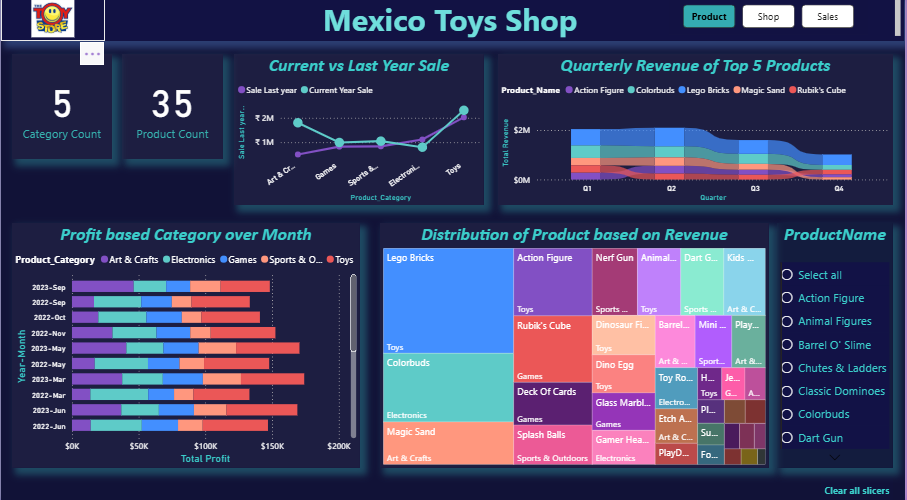

Layout of this report page (visuals, bound fields, positions):
{"tool":"powerbi","page":{"name":"Product","canvas":[1280,720],"ordinal":7},"visuals":[{"type":"textbox","box":[0,0,1279.8,65.2],"z":0},{"type":"actionButton","box":[1162.2,683.1,102,36.9],"z":1000},{"type":"pageNavigator","box":[684.6,2.8,399.7,59.5],"z":2000},{"type":"card","fields":{"Values":["Measure Table.Product Name Count"]},"box":[15.8,190.1,142.6,108],"z":3000},{"type":"card","fields":{"Values":["Measure Table.Total Transactions"]},"box":[15.6,83.6,141.7,97.8],"z":4000},{"type":"barChart","title":"Profit based Category over Month","fields":{"Category":["Calendar.Year-Month"],"Series":["products.Product_Category"],"Y":["Measure Table.Total Profit"]},"box":[18.7,308.2,504,361.4],"z":5000},{"type":"treemap","title":"Distribution of Product based on Revenue","fields":{"Group":["products.Product_Name"],"Values":["Measure Table.Total Revenue"],"Details":["products.Product_Category"]},"box":[532.8,308.2,731.5,362.9],"z":6000},{"type":"ribbonChart","title":"Quarterly Revenue of Top 5 Products","fields":{"Category":["Calendar.Quarter"],"Y":["Measure Table.Total Revenue"],"Series":["products.Product_Name"]},"box":[865.4,85,398.9,211.7],"z":7000},{"type":"lineChart","title":"Current vs Last Year Sale","fields":{"Category":["products.Product_Category"],"Y":["Measure Table.Sale Last year","Measure Table.Current Year Sale"]},"box":[168.5,82.1,331.2,214.6],"z":8000},{"type":"slicer","title":"Product Name","fields":{"Values":["products.Product_Name"]},"box":[1084.3,0,180,62.4],"z":9000},{"type":"image","box":[0,0,147.4,65.2],"z":10000},{"type":"areaChart","title":"Category wise Profit Margin","fields":{"Category":["products.Product_Category","Calendar.Year"],"Y":["Measure Table.Profit Margin %"]},"box":[514.1,82.1,338.4,214.6],"z":11000}]}

Visuals, with their boxes in screenshot pixels (x1, y1, x2, y2), scaled from the page's 1280x720 canvas onto the 907x500 screenshot:
textbox: {"x1": 0, "y1": 0, "x2": 906, "y2": 45}
actionButton: {"x1": 824, "y1": 474, "x2": 896, "y2": 499}
pageNavigator: {"x1": 485, "y1": 2, "x2": 768, "y2": 43}
card - Measure Table.Product Name Count: {"x1": 11, "y1": 132, "x2": 112, "y2": 207}
card - Measure Table.Total Transactions: {"x1": 11, "y1": 58, "x2": 111, "y2": 126}
"Profit based Category over Month" barChart: {"x1": 13, "y1": 214, "x2": 370, "y2": 465}
"Distribution of Product based on Revenue" treemap: {"x1": 378, "y1": 214, "x2": 896, "y2": 466}
"Quarterly Revenue of Top 5 Products" ribbonChart: {"x1": 613, "y1": 59, "x2": 896, "y2": 206}
"Current vs Last Year Sale" lineChart: {"x1": 119, "y1": 57, "x2": 354, "y2": 206}
"Product Name" slicer: {"x1": 768, "y1": 0, "x2": 896, "y2": 43}
image: {"x1": 0, "y1": 0, "x2": 104, "y2": 45}
"Category wise Profit Margin" areaChart: {"x1": 364, "y1": 57, "x2": 604, "y2": 206}
